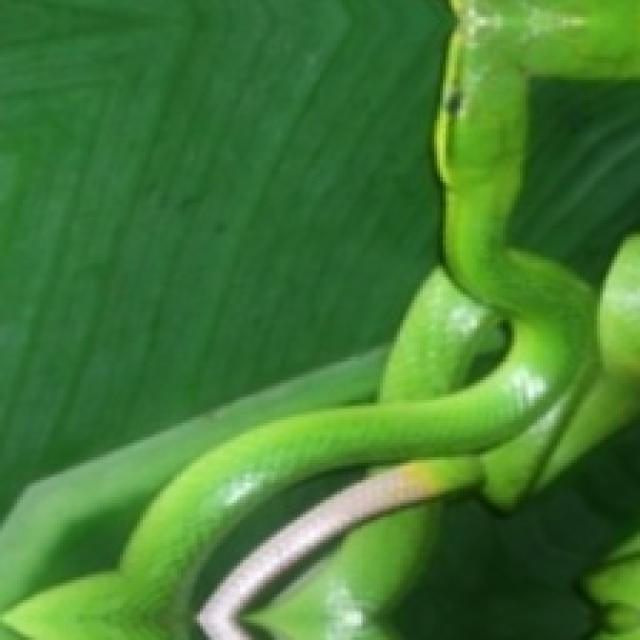red-tailed green ratsnake: (2, 2, 640, 640)
